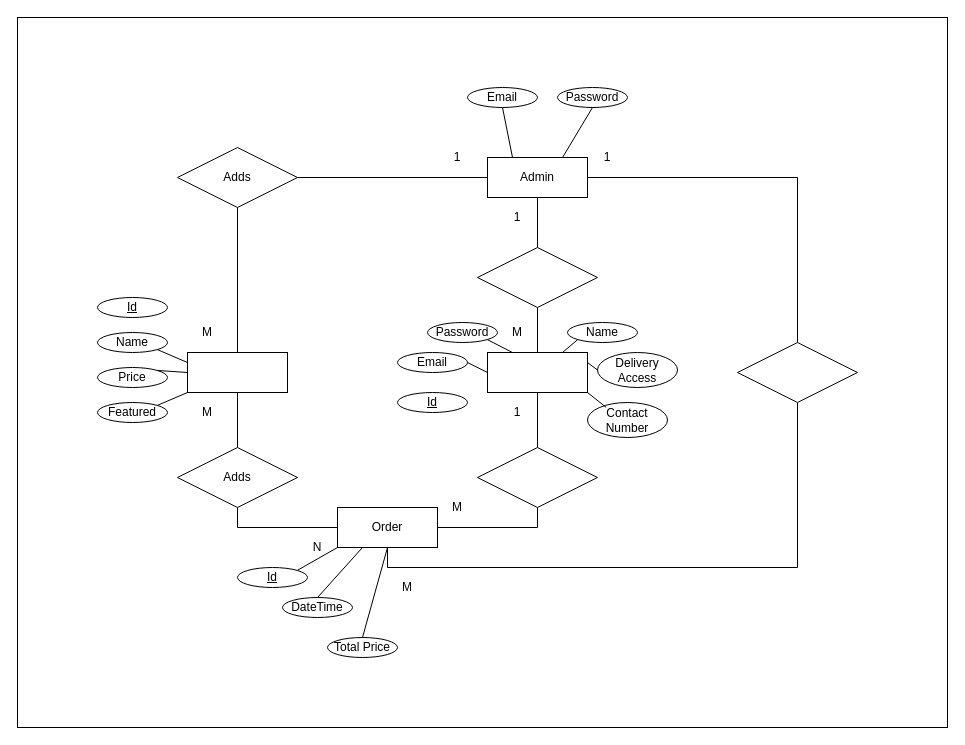
Some shapes in this 965 by 745 pixel diagram are drawn without their labels. The centre of each missing label's shape, as x and y in pixels:
"Item" goes at pixel 237 372.
"Manages" goes at pixel 537 277.
"Places" goes at pixel 537 477.
"User" goes at pixel 537 372.
"Views" goes at pixel 797 372.
